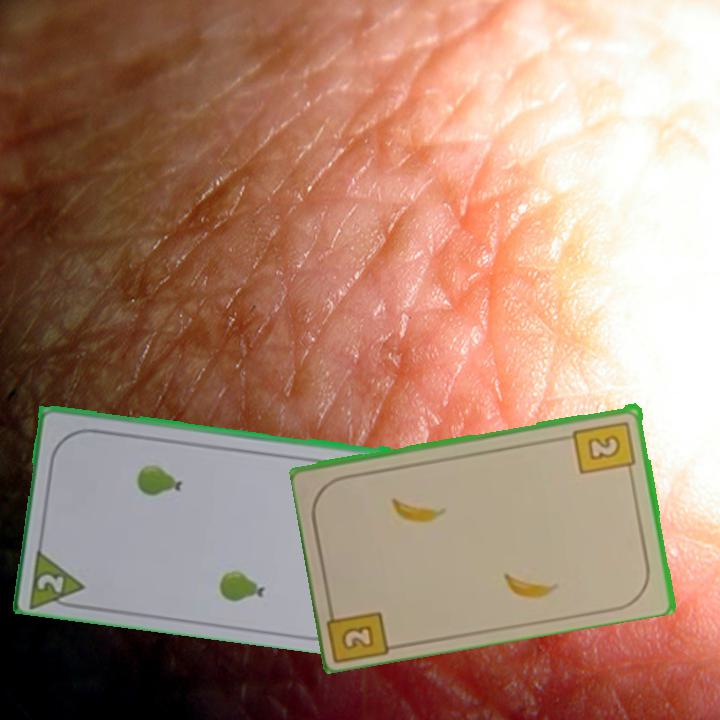2b: (324, 598, 395, 663), (571, 417, 638, 478)
2p: (26, 542, 89, 612)
